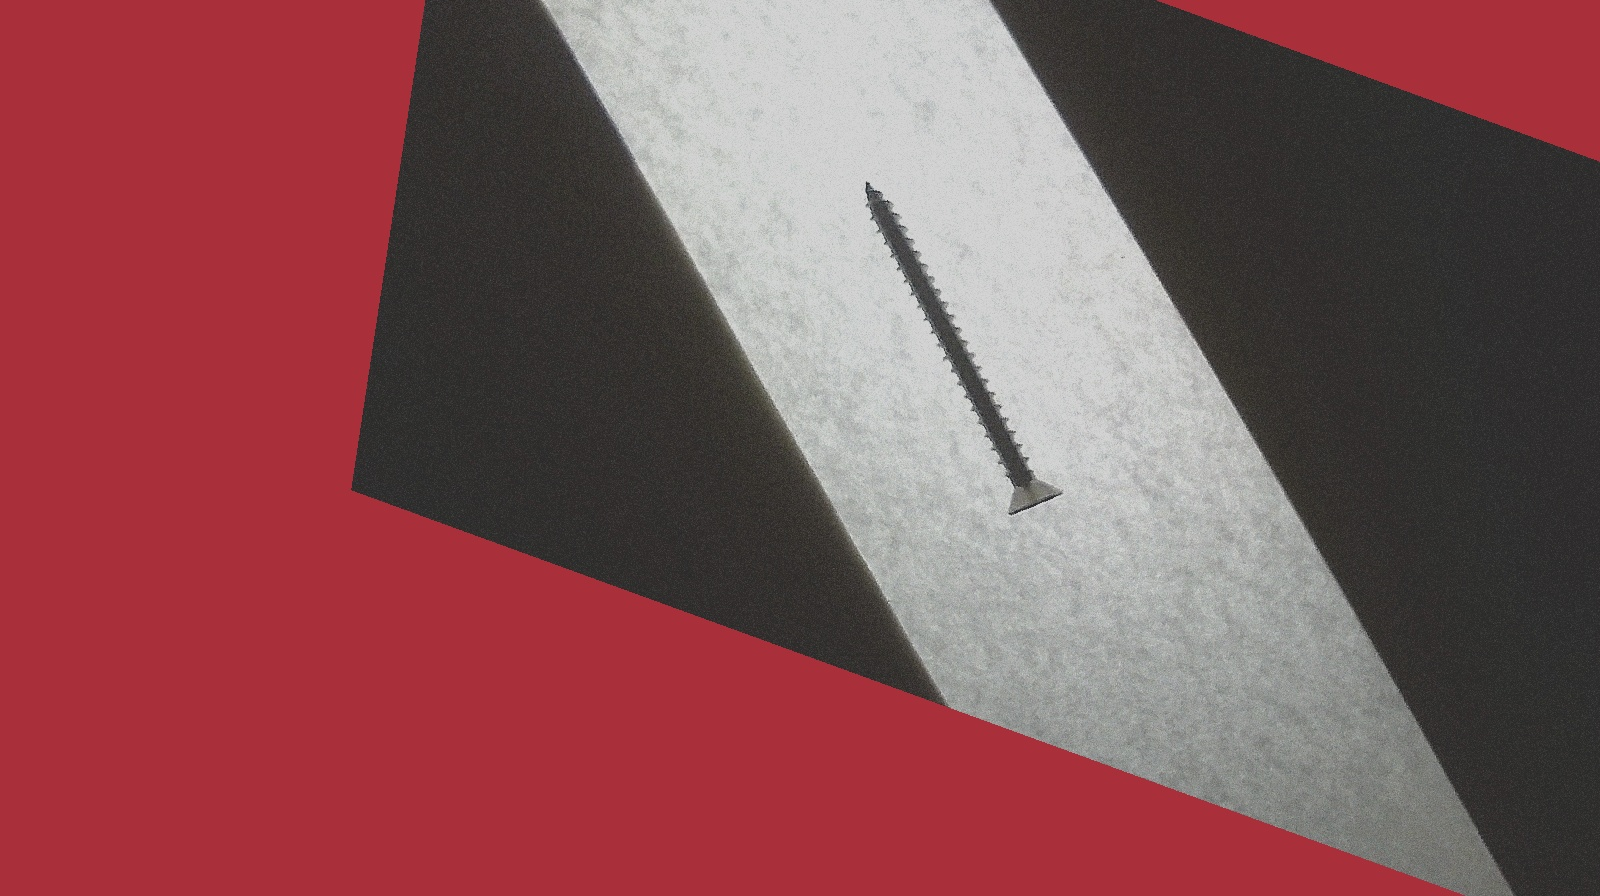S002: (789, 153, 1116, 553)
